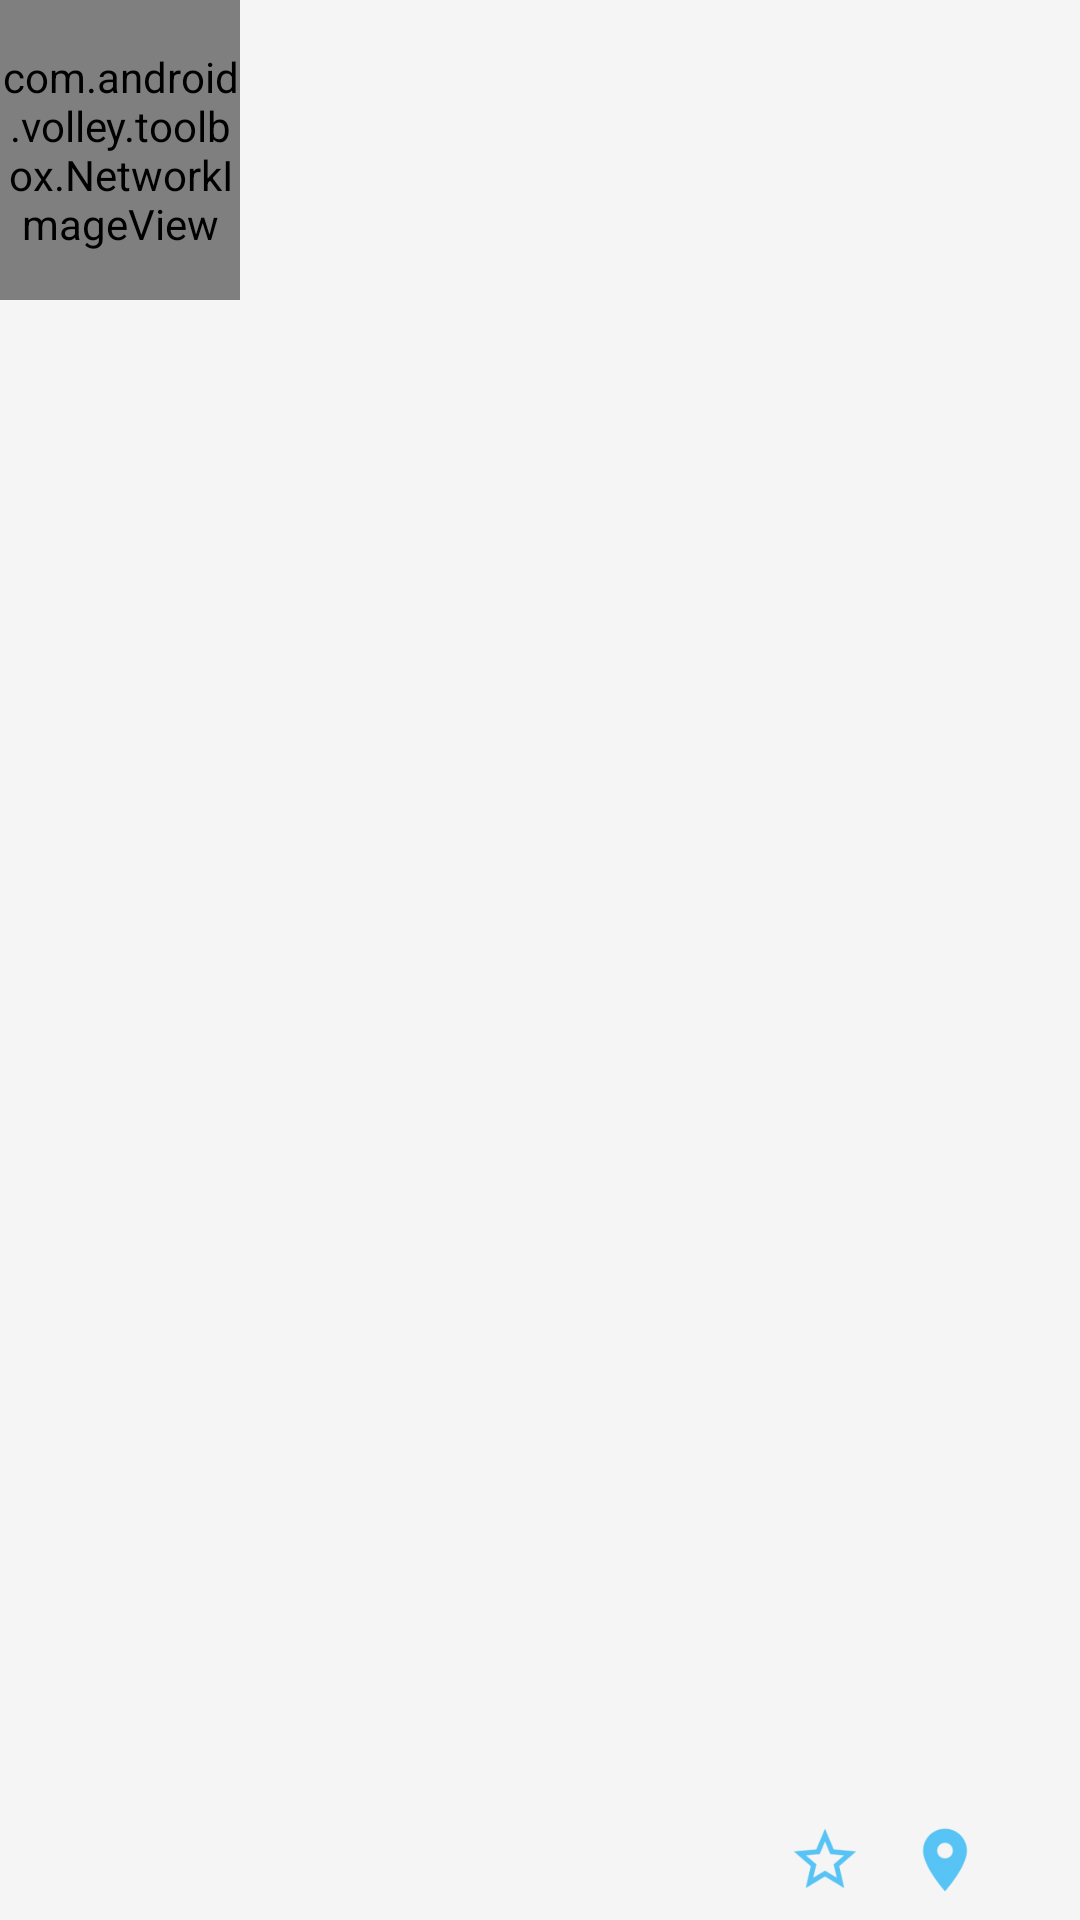

Icon bounding boxes for this 1080*1920 phone screenshot, format (x1, y1, x2, y2):
location: (923, 1828, 967, 1891)
star: (794, 1829, 856, 1888)
